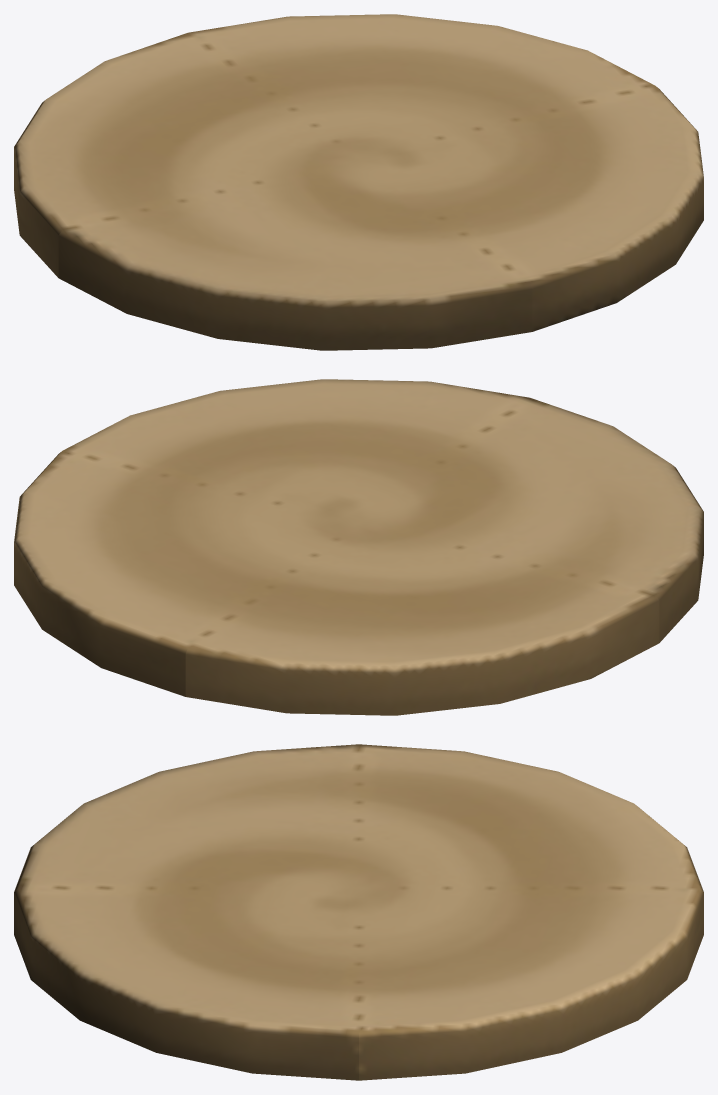
File: mazeButton_model.glb
3 renders of one model, top to bottom at view 1: azimuth 30°, elevation 25°; view 2: azimuth 150°, elevation 25°; view 3: azimuth 270°, elevation 25°, orthographic.
Visible parts, largest first — view 1: mazeButton_t3; view 2: mazeButton_t3; view 3: mazeButton_t3.
Part boxes in pixels (left/top/right/bottom): mazeButton_t3: left=14, top=14, right=703, bottom=350; mazeButton_t3: left=14, top=379, right=703, bottom=715; mazeButton_t3: left=14, top=744, right=703, bottom=1080.
Size of what is drawn, in the model's own units: 1.38 by 0.1031 by 1.38.
1 material, 1 textured.
